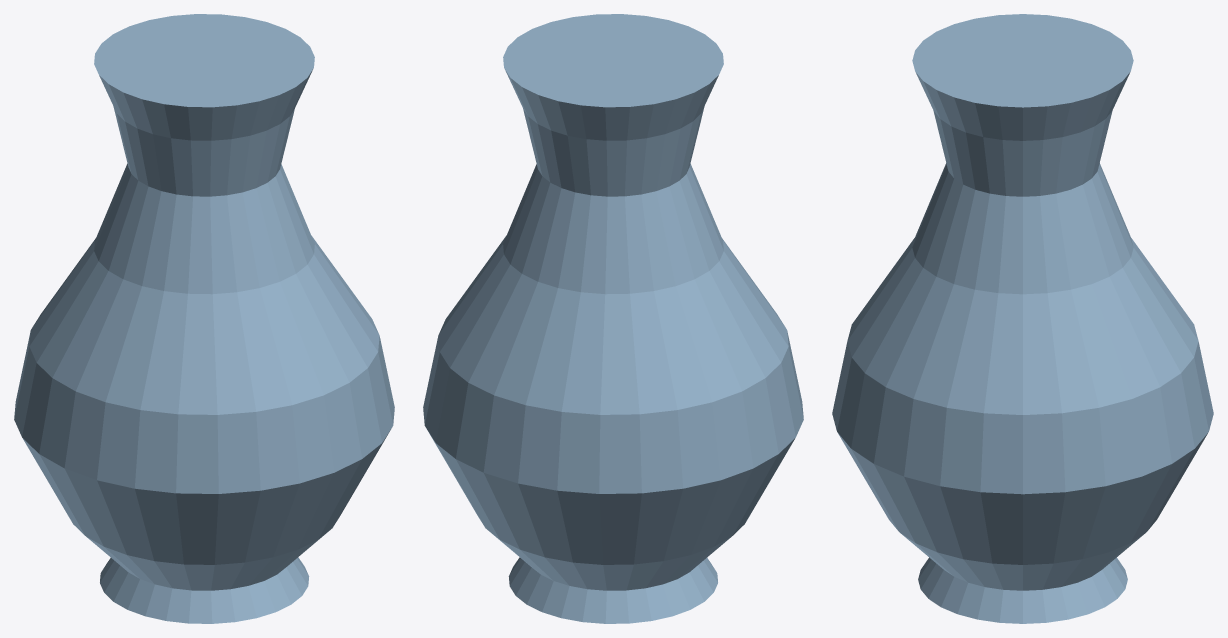
File: vase.glb
The picture shows the model from 3 angles, left to right: view 1: azimuth 30°, elevation 25°; view 2: azimuth 150°, elevation 25°; view 3: azimuth 270°, elevation 25°; orthographic projection.
Parts seen in each view (by area): view 1: intact_mesh, shard_007, shard_012, shard_002, shard_005, shard_004, shard_003, shard_006, shard_010, shard_009, shard_000, shard_011; view 2: intact_mesh, shard_004, shard_000, shard_001, shard_009, shard_006, shard_003, shard_010, shard_002, shard_012, shard_011, shard_008 (+1 smaller); view 3: intact_mesh, shard_012, shard_001, shard_005, shard_000, shard_003, shard_002, shard_008, shard_009, shard_006, shard_010, shard_007 (+1 smaller).
Boxes of the visible parts, x1,y1,x2,y2 form: intact_mesh: (14, 14, 394, 623); shard_007: (82, 242, 311, 623); shard_012: (34, 216, 376, 620); shard_002: (146, 60, 314, 251); shard_005: (266, 220, 378, 593); shard_004: (22, 208, 115, 587); shard_003: (29, 218, 123, 595); shard_006: (122, 145, 286, 210); shard_010: (108, 184, 299, 246); shard_009: (113, 107, 173, 172); shard_000: (102, 57, 314, 133); shard_011: (118, 176, 290, 221); intact_mesh: (423, 14, 803, 623); shard_004: (521, 244, 757, 621); shard_000: (507, 24, 721, 137); shard_001: (438, 232, 568, 618); shard_009: (524, 109, 703, 175); shard_006: (531, 145, 695, 212); shard_003: (469, 235, 771, 612); shard_010: (517, 185, 703, 251); shard_002: (561, 14, 722, 60); shard_012: (691, 218, 780, 603); shard_011: (527, 176, 699, 224); shard_008: (452, 210, 523, 587); intact_mesh: (832, 14, 1213, 623); shard_012: (959, 243, 1034, 623); shard_001: (1091, 232, 1193, 612); shard_005: (843, 227, 959, 614); shard_000: (972, 19, 1129, 138); shard_003: (1034, 250, 1057, 623); shard_002: (913, 21, 972, 245); shard_008: (1057, 244, 1091, 620); shard_009: (972, 108, 1113, 175); shard_006: (972, 147, 1104, 212); shard_010: (972, 187, 1116, 252); shard_007: (832, 212, 935, 587).
Bounding box in the file's own units: 0.6 × 0.9 × 0.6.
